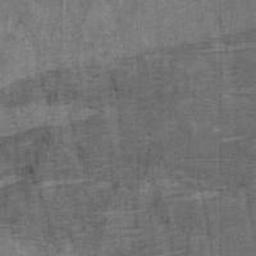Water spot: (0, 27, 255, 256)
